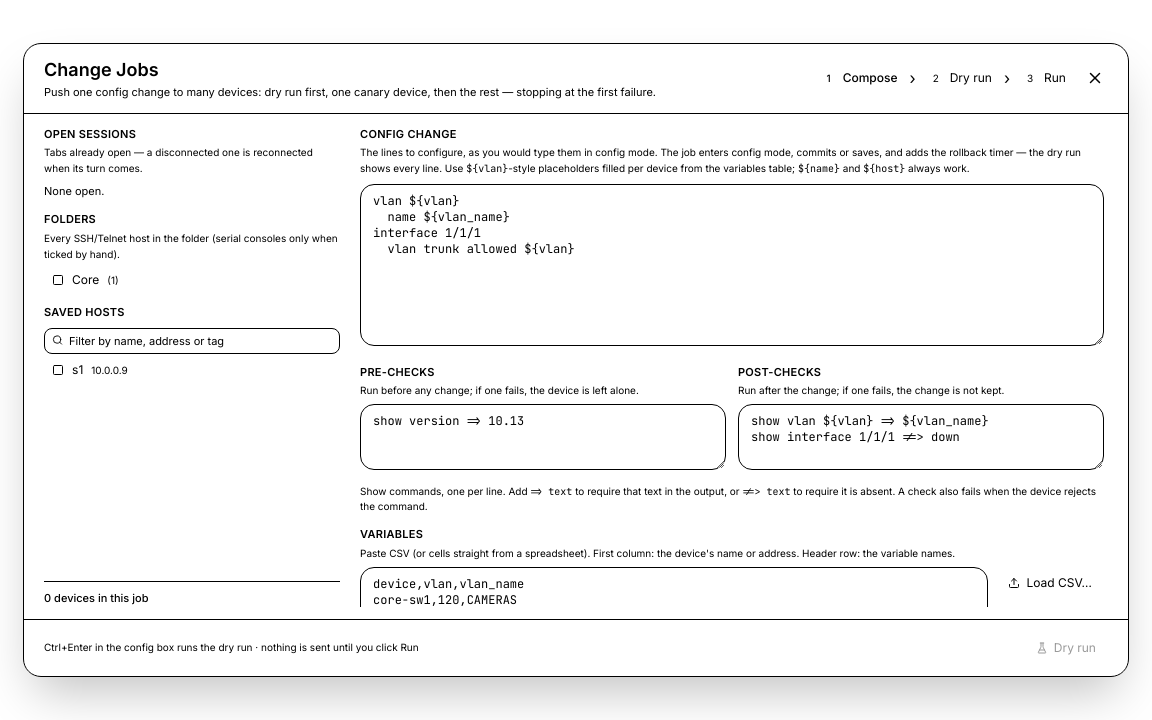
Test: ChangeJobs › says which vendors have no rollback timer
Click the text "Core".
click(86, 280)  # box top-left (72, 272), bottom-right (99, 288)
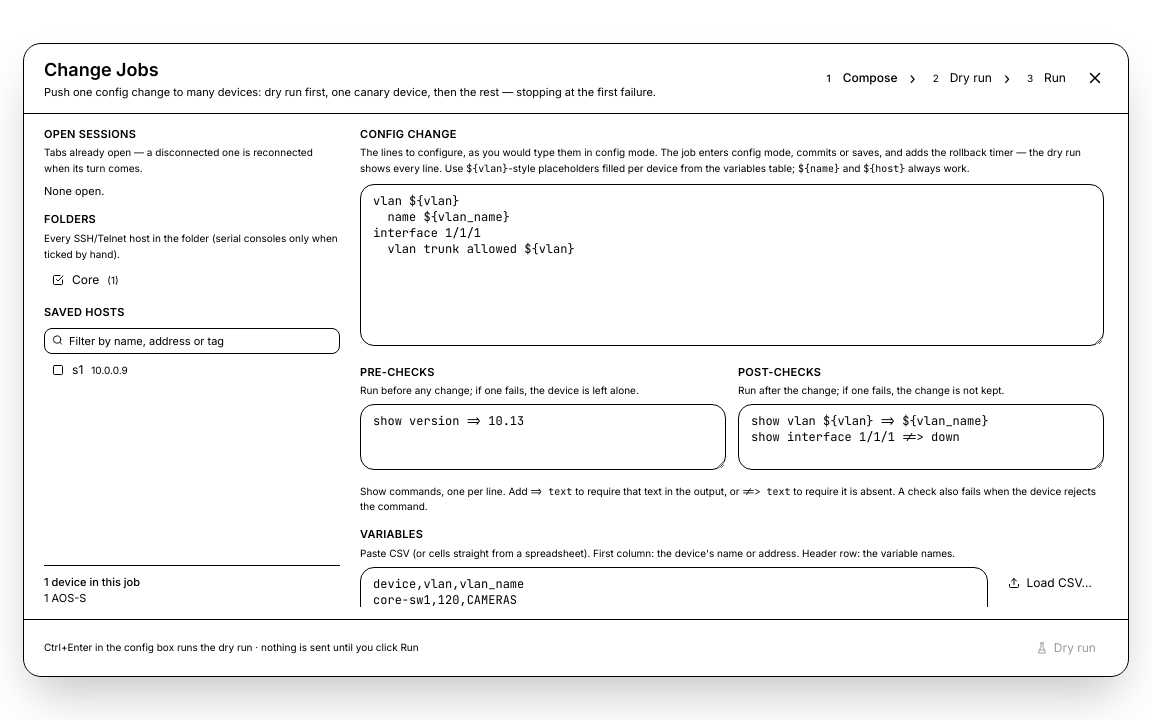
Replace the text in the text box with placeholder "vlan ${vlan}" with "vlan 30" at (732, 265), box top-left (360, 184), bottom-right (1104, 346)
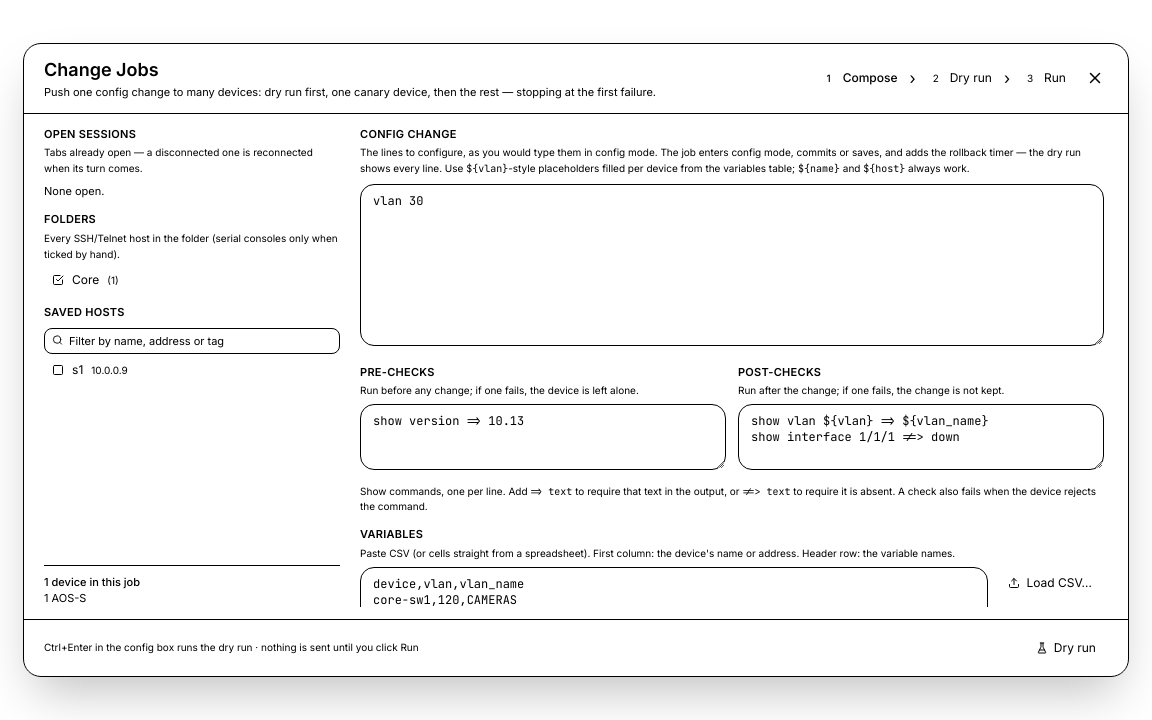
Click the button "Dry run".
click(1066, 648)  # box top-left (1024, 632), bottom-right (1108, 664)
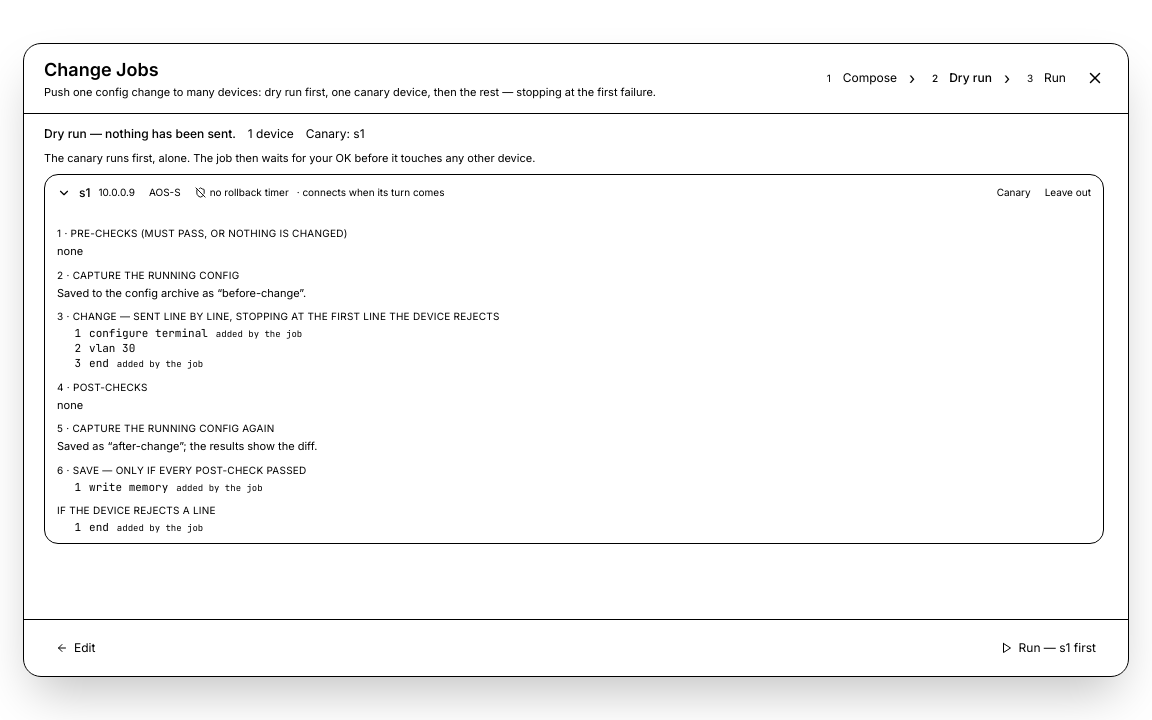
Expected: the text "no rollback timer" is shown, top-left (195, 185), bottom-right (289, 200)
